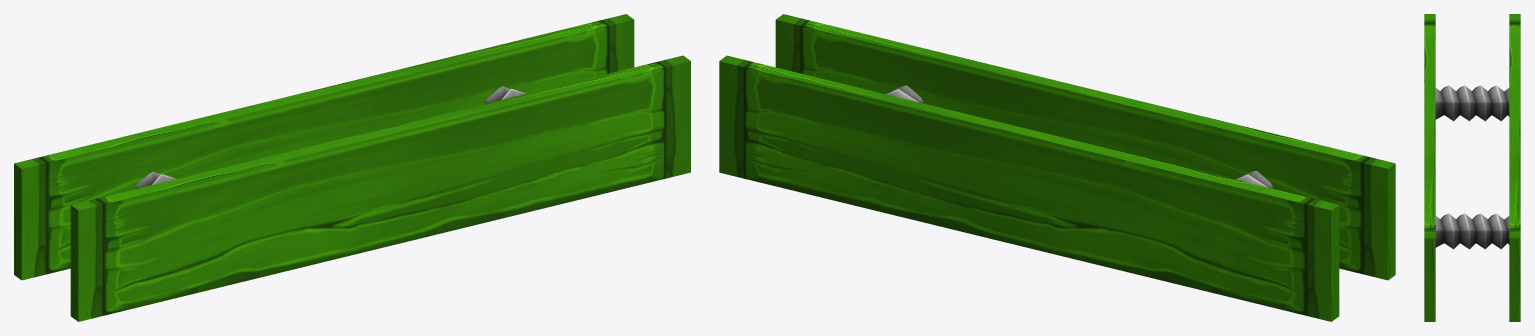
File: fence_green_03.fbx
3 renders of one model, left to right at view 1: azimuth 30°, elevation 25°; view 2: azimuth 150°, elevation 25°; view 3: azimuth 270°, elevation 25°, orthographic. The views are drawn at different scales.
Visible parts, largest first — view 1: fence_green_03; view 2: fence_green_03; view 3: fence_green_03.
Part boxes in pixels (<box>): fence_green_03: <box>14,14,690,321</box>; fence_green_03: <box>719,14,1395,321</box>; fence_green_03: <box>1424,14,1520,321</box>.
Size of the model in its own units: 230 by 40 by 41.88.
